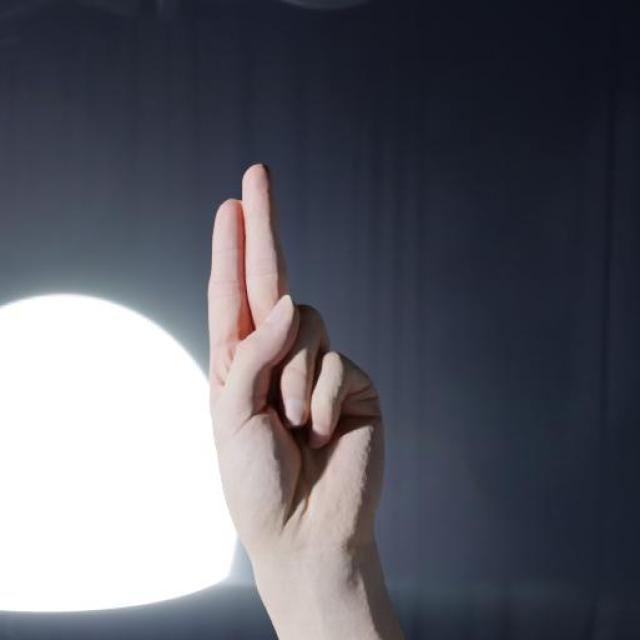U: (205, 160, 384, 624)
